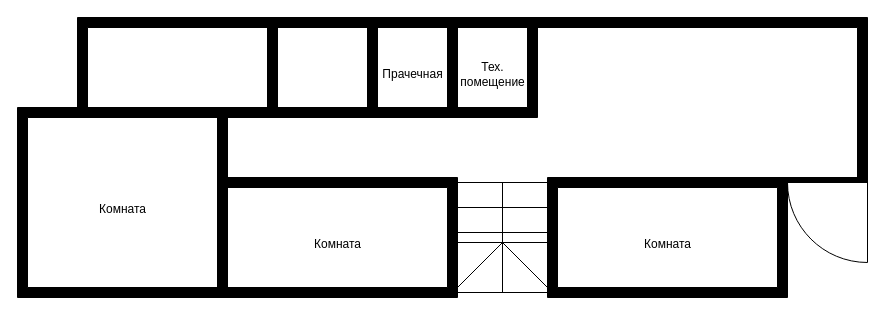
This 885x315 diagram has some shape labels left out. Each missing label, with the box of its shape:
Прихожая: (76, 16, 278, 118)
Туалет: (266, 16, 378, 118)
